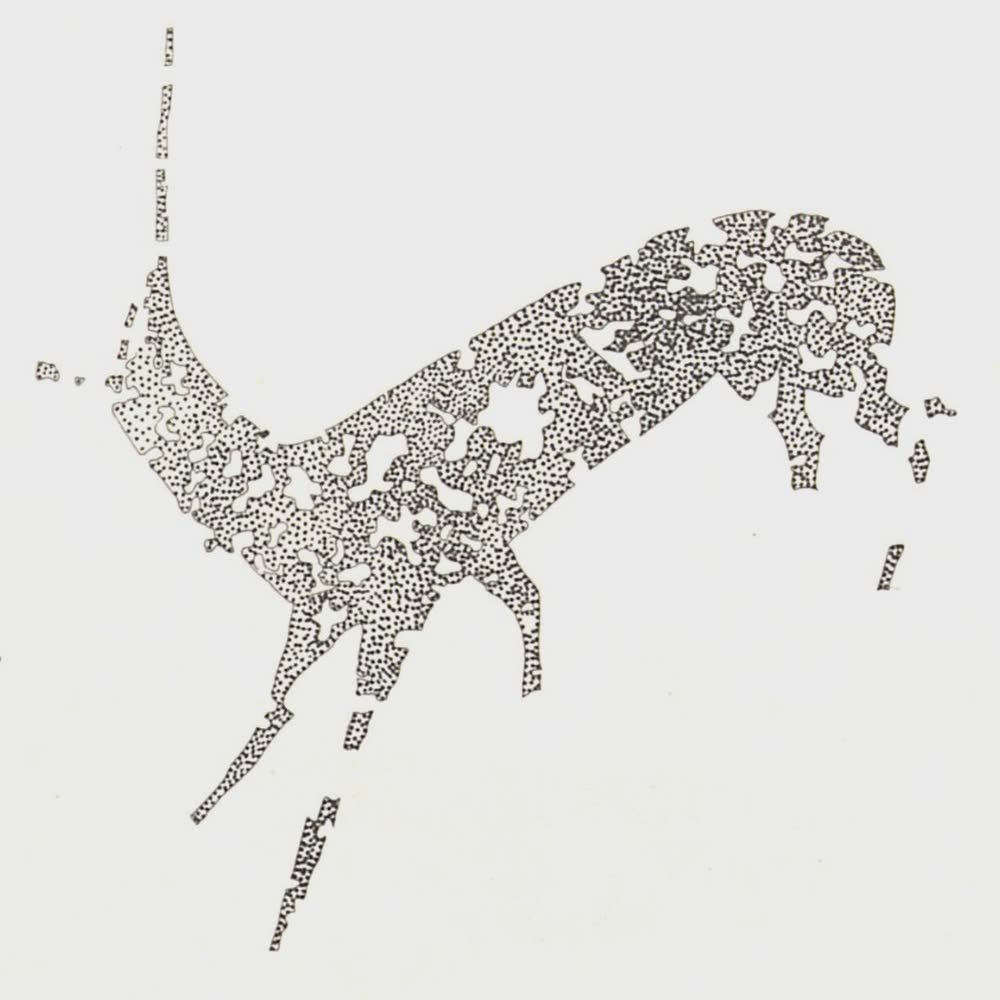animal: (19, 19, 964, 952)
